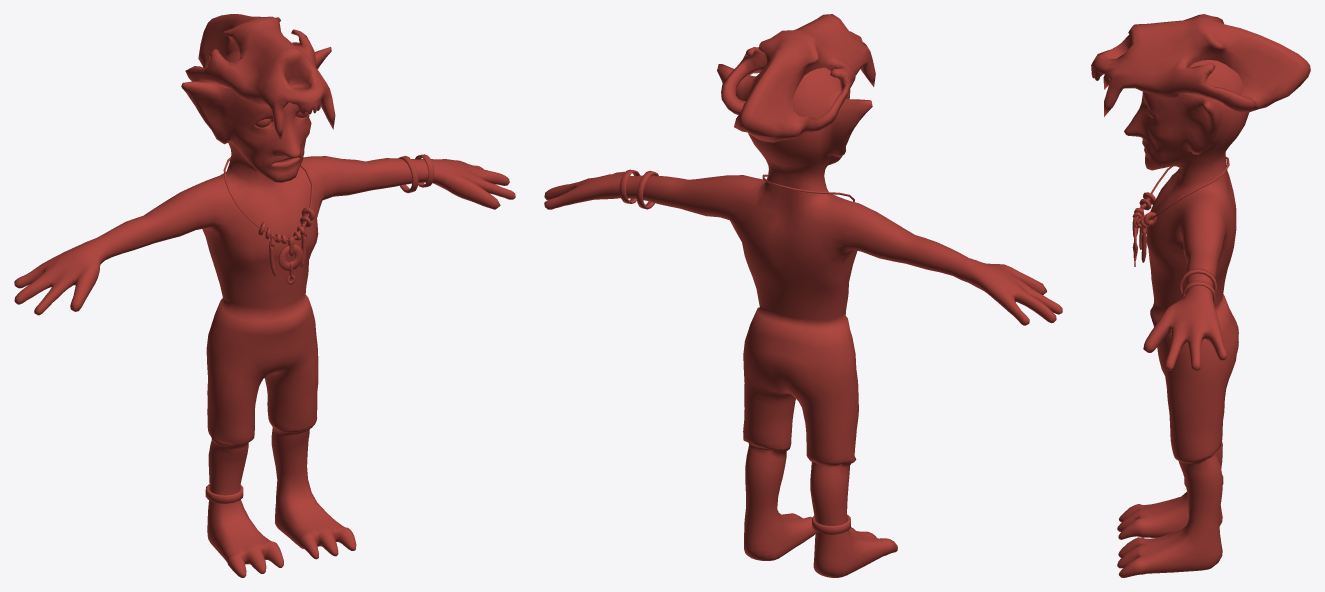
The model's file is goblin.fbx.
3 views of the same model, side by side, from view 1: azimuth 30°, elevation 25°; view 2: azimuth 150°, elevation 25°; view 3: azimuth 270°, elevation 25° (orthographic). The views are drawn at different scales.
Parts seen in each view (by area): view 1: Goblin Character.001; view 2: Goblin Character.001; view 3: Goblin Character.001.
Part boxes in pixels (x1,y1,x2,y2): Goblin Character.001: [14, 14, 515, 577]; Goblin Character.001: [544, 14, 1062, 577]; Goblin Character.001: [1091, 14, 1310, 577].
Bounding box in the file's own units: 141 × 141 × 52.96.
